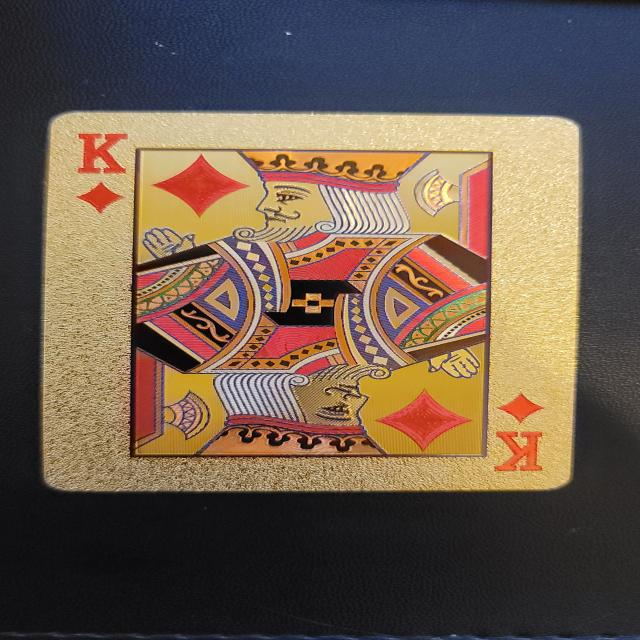King of diamonds: (41, 110, 584, 493)
